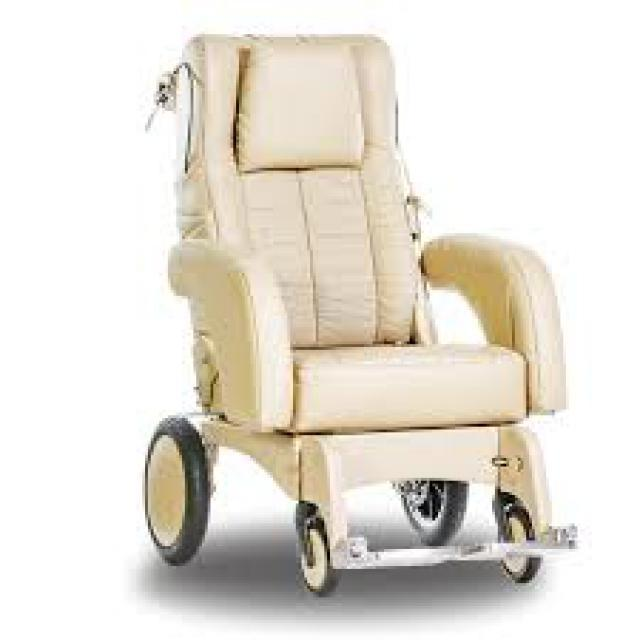wheelchair: (130, 23, 614, 623)
